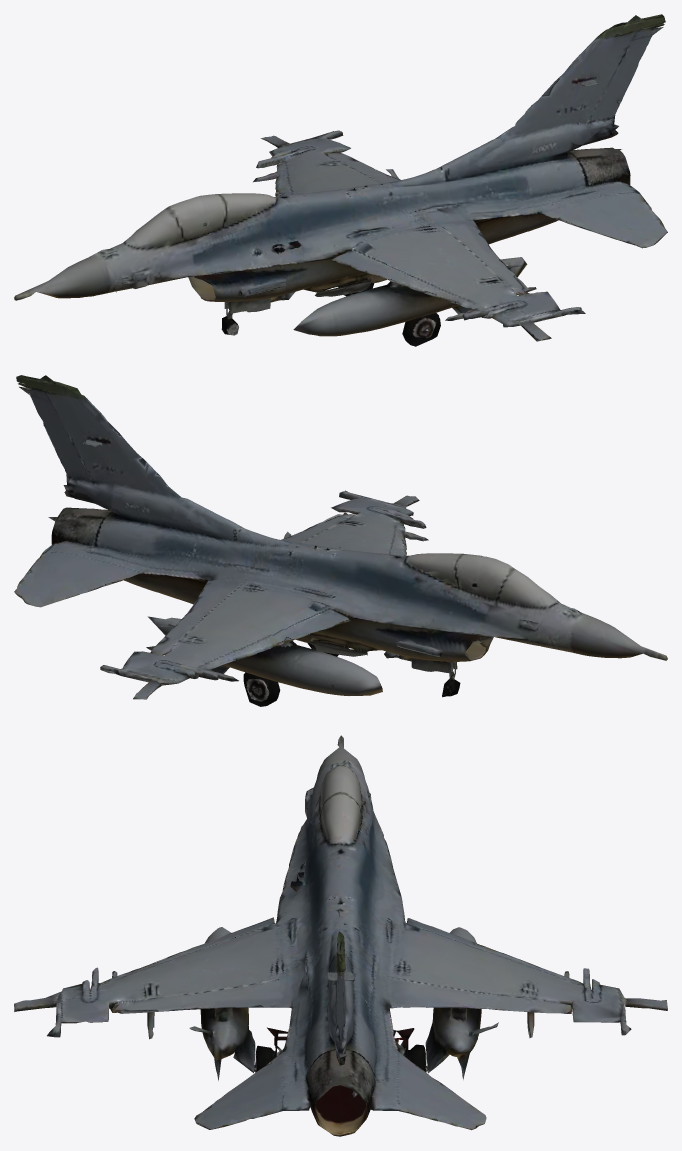
The model's file is sky-chicken-mascot.glb.
3 views of the same model, one above another, from view 1: azimuth 30°, elevation 25°; view 2: azimuth 150°, elevation 25°; view 3: azimuth 270°, elevation 25° (orthographic). The views are drawn at different scales.
Visible parts, largest first — view 1: tripo_node_7ae405f4-1dca-45f7-b0b6-44ae071f4b05; view 2: tripo_node_7ae405f4-1dca-45f7-b0b6-44ae071f4b05; view 3: tripo_node_7ae405f4-1dca-45f7-b0b6-44ae071f4b05.
Boxes of the visible parts, <box> form: tripo_node_7ae405f4-1dca-45f7-b0b6-44ae071f4b05: <box>14,14,667,346</box>; tripo_node_7ae405f4-1dca-45f7-b0b6-44ae071f4b05: <box>14,375,667,706</box>; tripo_node_7ae405f4-1dca-45f7-b0b6-44ae071f4b05: <box>14,735,667,1136</box>.
Bounding box in the file's own units: 32706 × 11895 × 24086.
1 material, 1 textured.
